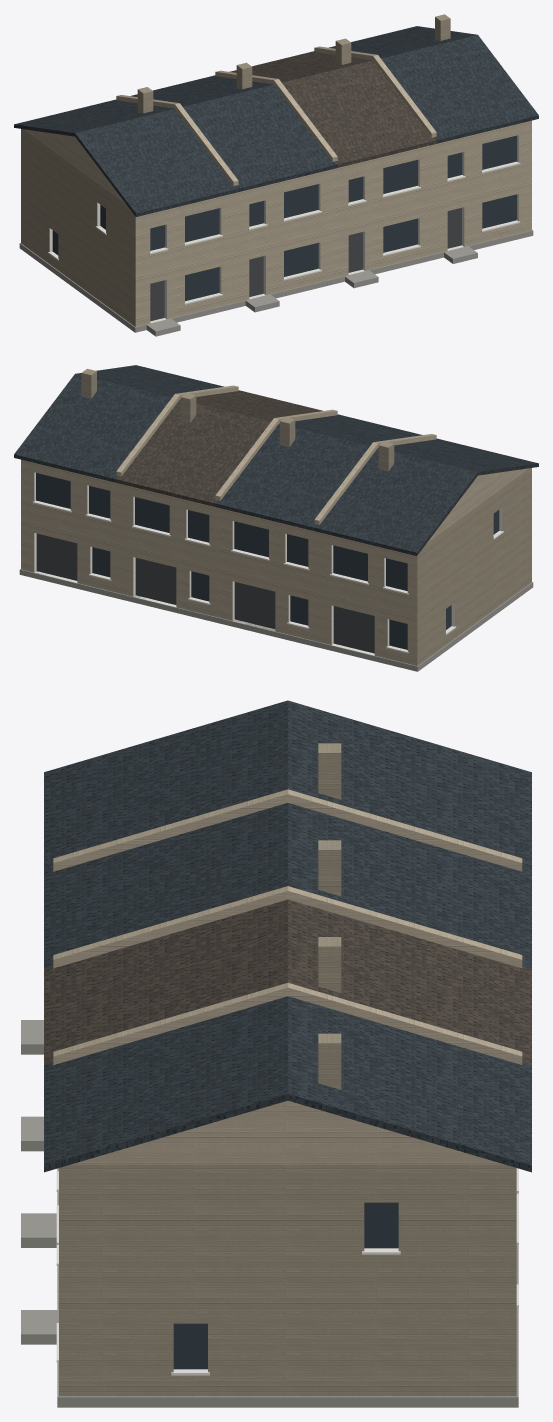
The model's file is rowhouses-reroofed.glb.
The picture shows the model from 3 angles, top to bottom: view 1: azimuth 30°, elevation 25°; view 2: azimuth 150°, elevation 25°; view 3: azimuth 270°, elevation 25°; orthographic projection. The views are drawn at different scales.
Visible parts, largest first — view 1: rowhouses-reroofed; view 2: rowhouses-reroofed; view 3: rowhouses-reroofed.
Part boxes in pixels (<box>): rowhouses-reroofed: <box>14,14,538,336</box>; rowhouses-reroofed: <box>14,365,538,671</box>; rowhouses-reroofed: <box>21,700,531,1407</box>.
Bounding box in the file's own units: 24.4 × 10.05 × 13.4.
8 materials, 4 textured.
